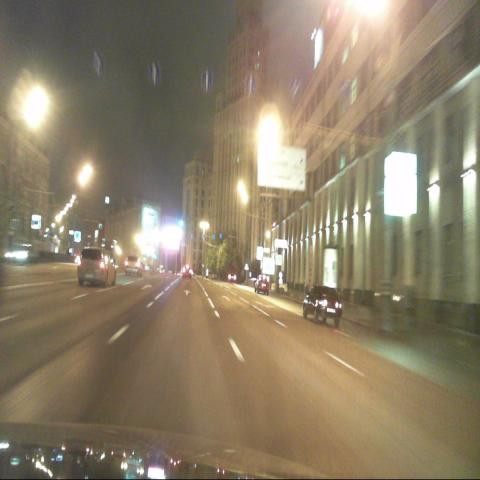5_15_2: (200, 68, 213, 91), (92, 51, 104, 73), (149, 63, 161, 84), (246, 73, 256, 95)
